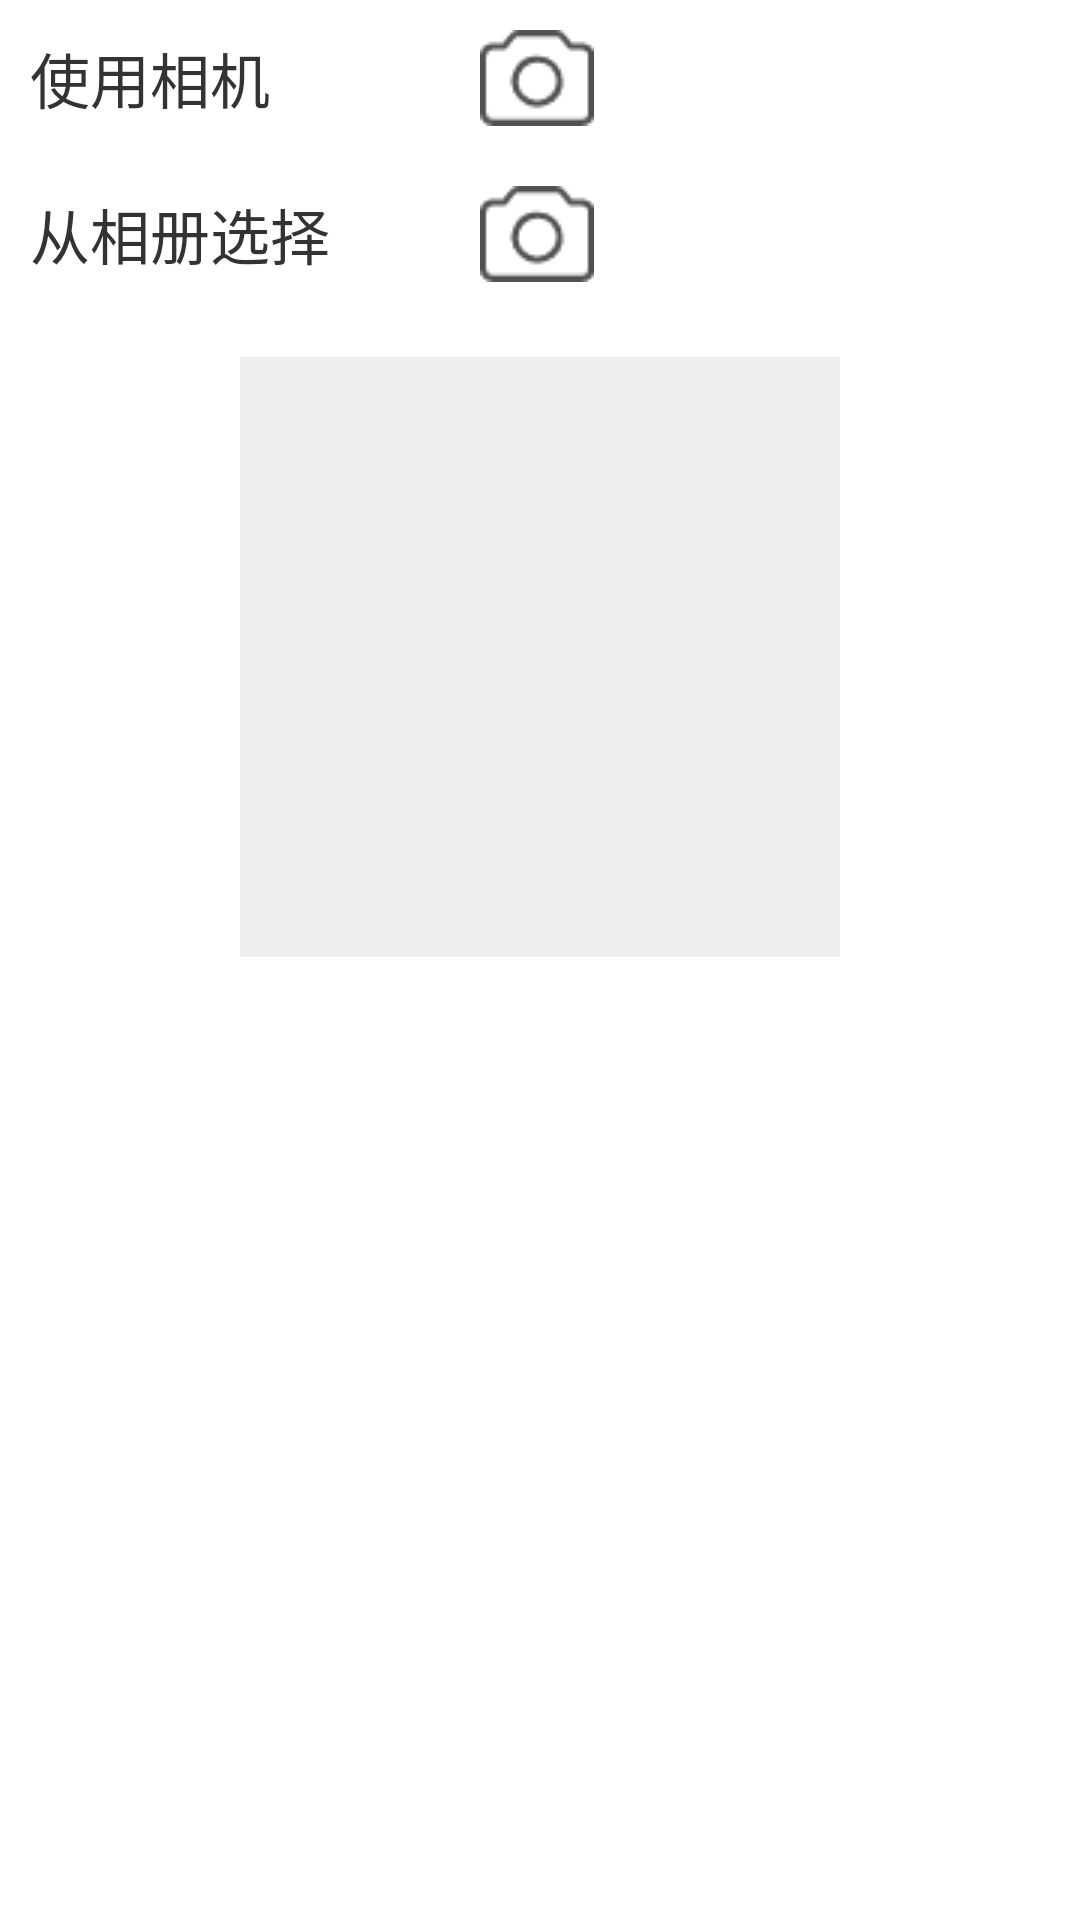

Screen size 1080 × 1920. Icon name, then its box in pixels as [x1,y1,x2,y2]:
camera: [480,30,594,126], [480,186,594,282]
